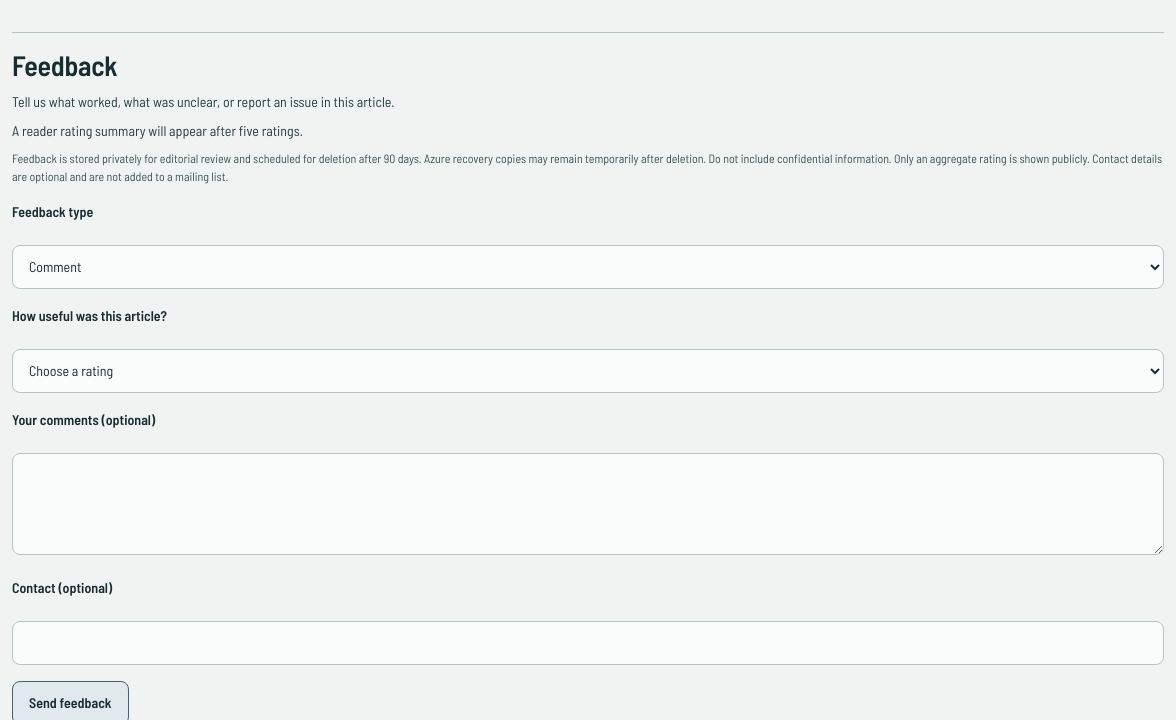
Test: private article feedback › announces only a matching saved receipt and states retention before submission
Expected: the text "scheduled for deletion after 90 days" is shown, [12,149,1164,185]
Select "5 — Extremely useful" in the dropdown labelled "How useful was this article?" at x=588, y=371, box [12,349,1164,393]
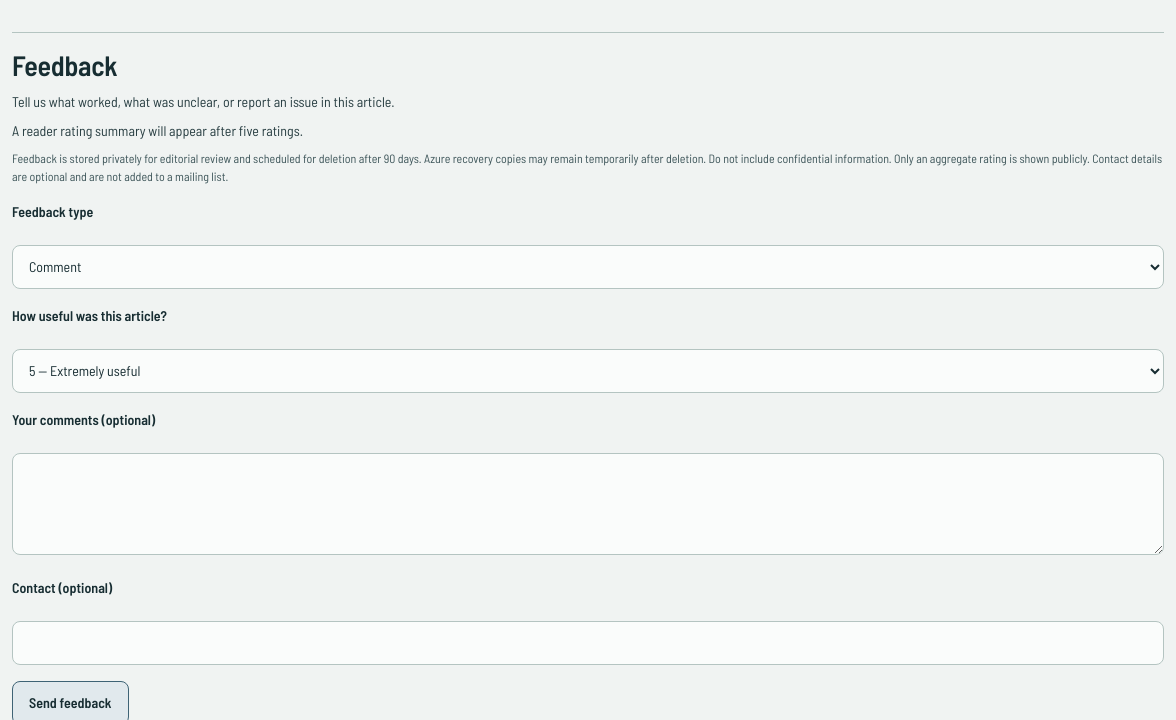
Type "Very useful breakdown." into the text box labelled "Your comments (optional)" at x=588, y=504, box [12,453,1164,555]
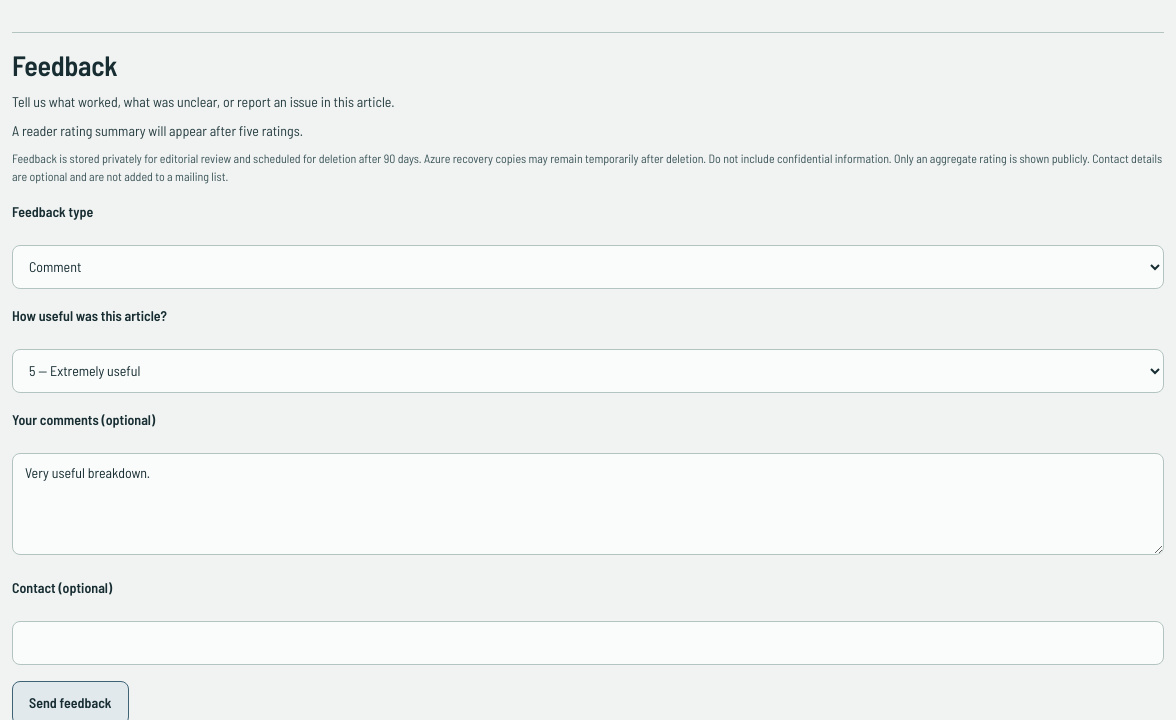
Type "reader@example.test" into the field labelled "Contact (optional)" at x=588, y=643, box [12,621,1164,665]
(page scrolled)
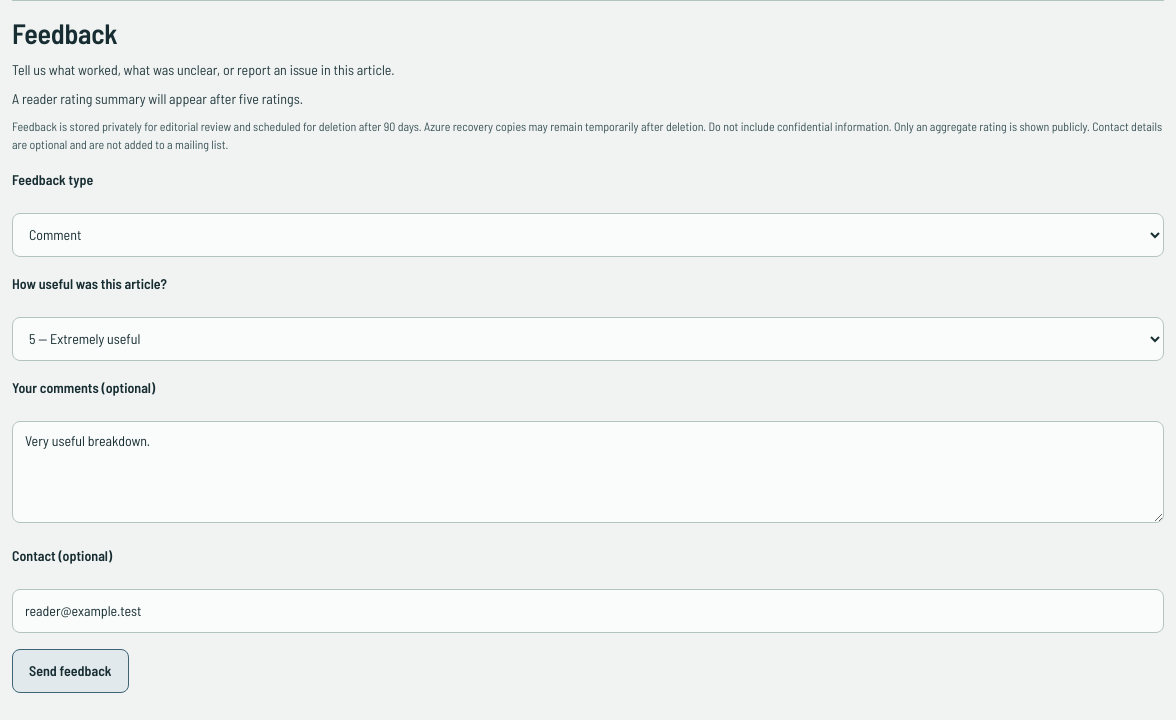
Click the button "Send feedback" at x=70, y=671, box [12,649,128,693]
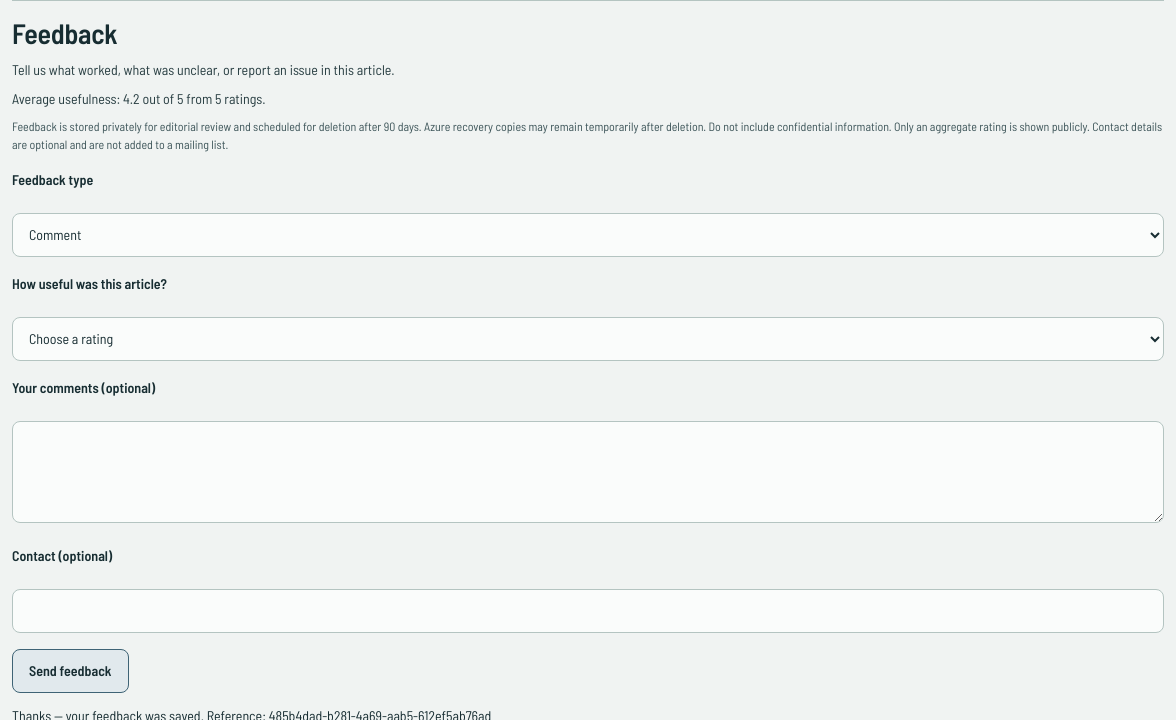
Now the text "Average usefulness: 4.2 out of 5 from 5 ratings." is shown, box [12,90,266,107]
Now the text box labelled "Your comments (optional)" is empty, box [12,421,1164,523]
